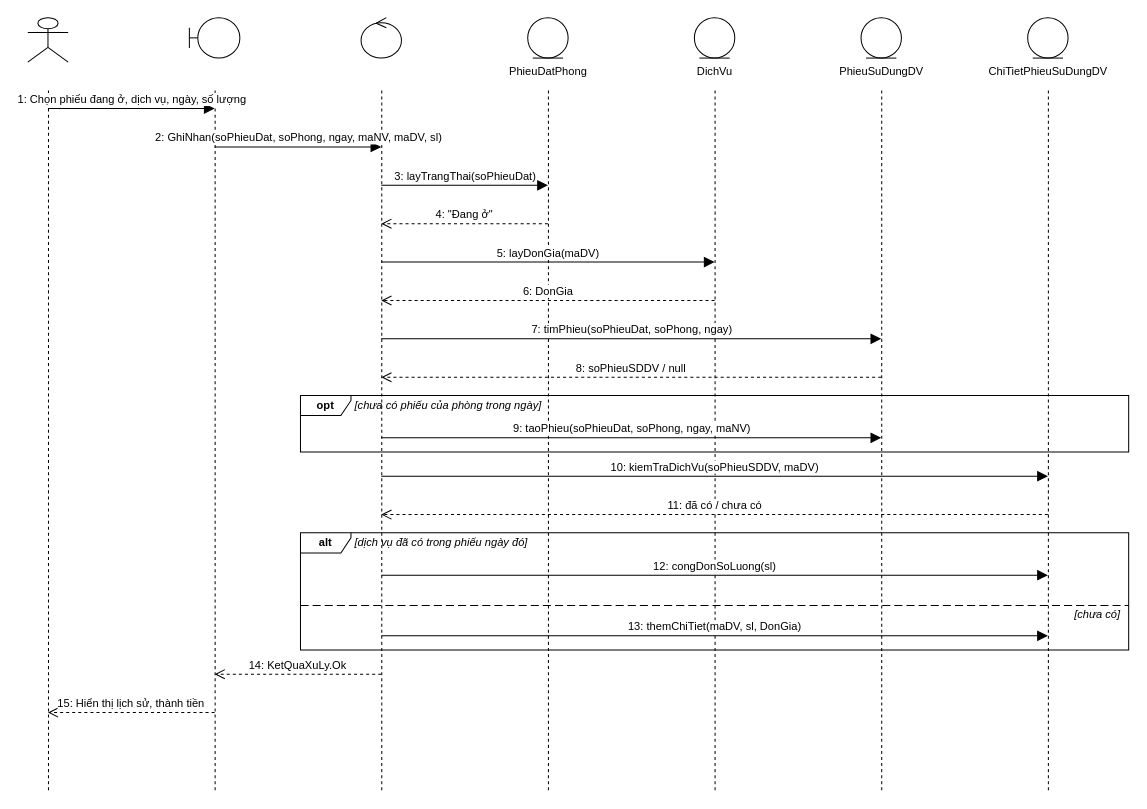
This 1147x809 diagram has some shape labels left out. Each missing label, with the centre of its shape:
"DichVuService" goes at [380,37].
"FrmDichVu" goes at [214,37].
"Nhân viên" goes at [47,39].
